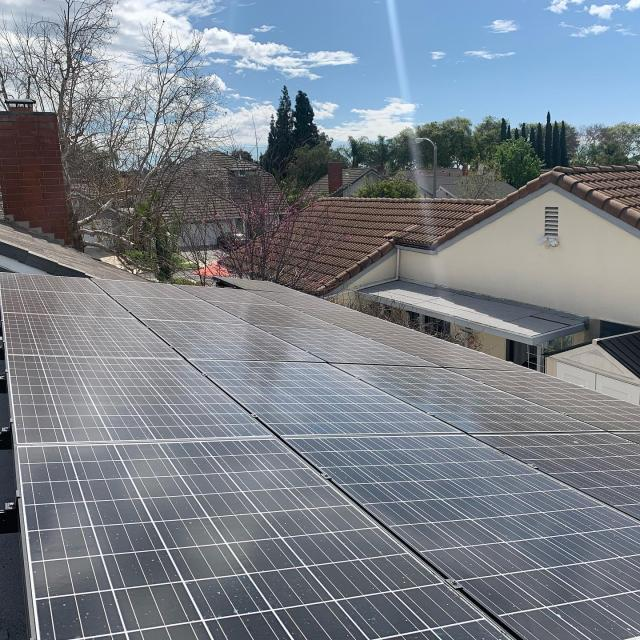dust-solar-panel: (0, 272, 640, 640)
